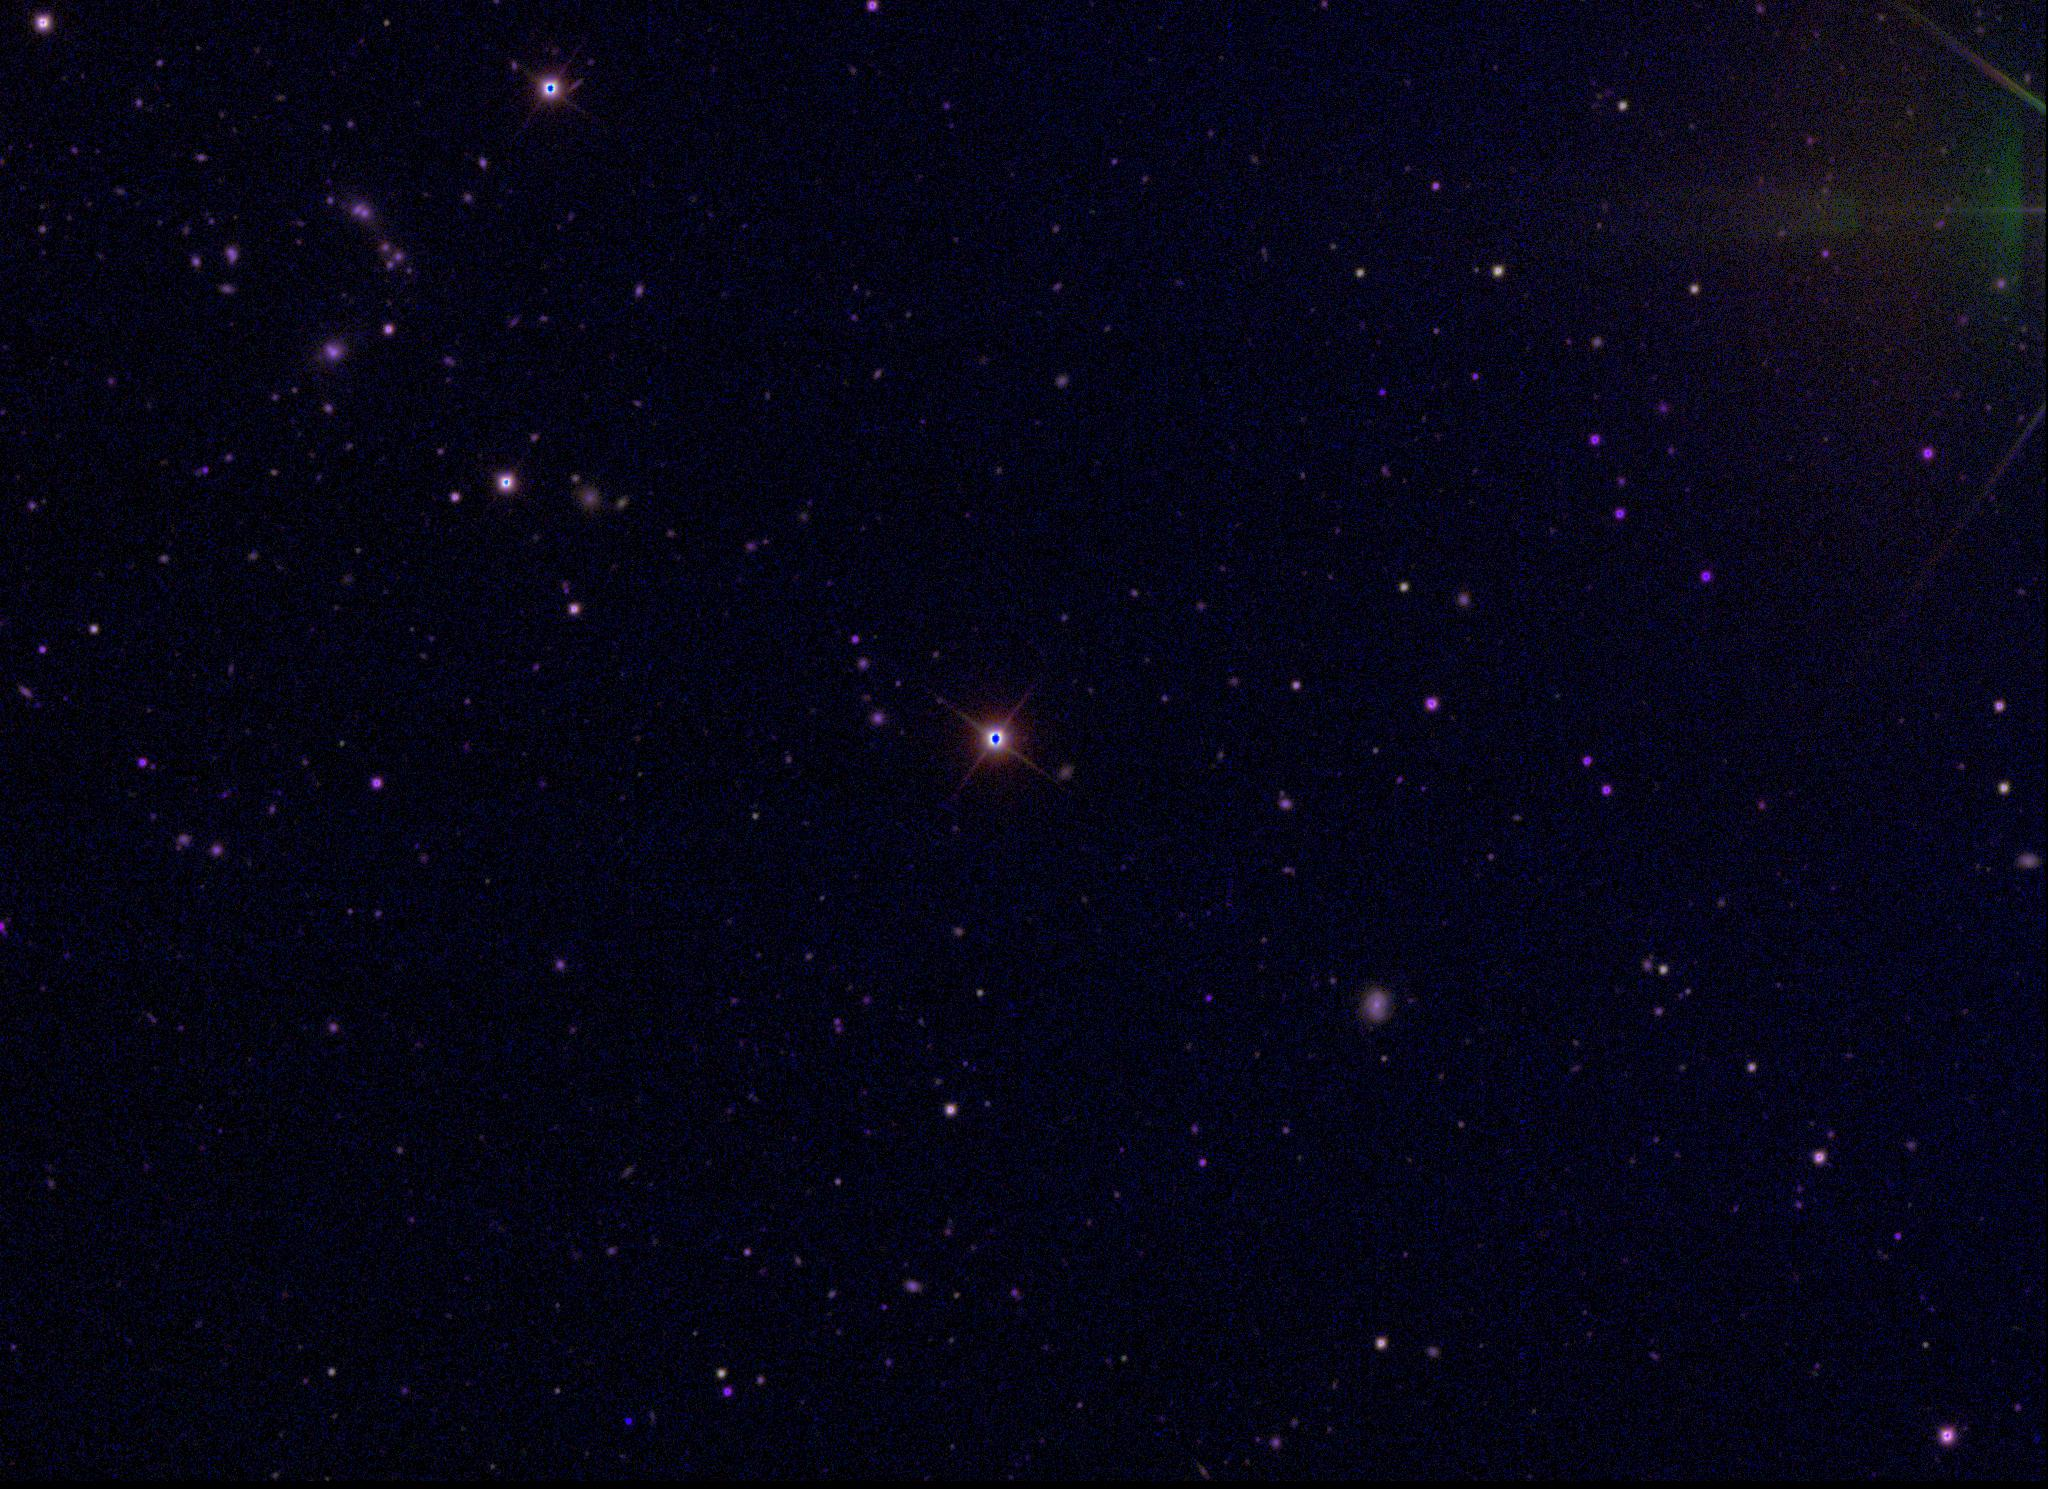L: (622, 1414, 634, 1429)
